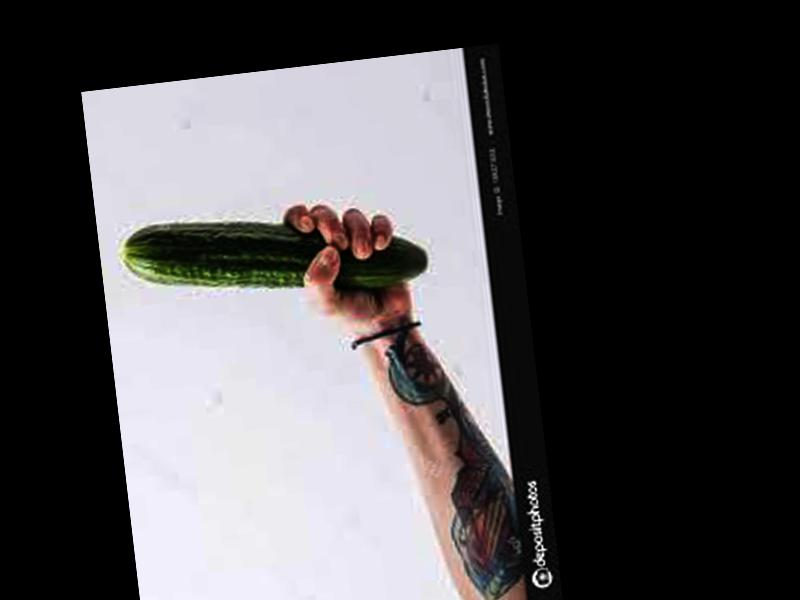Cucumber: (117, 194, 427, 315)
